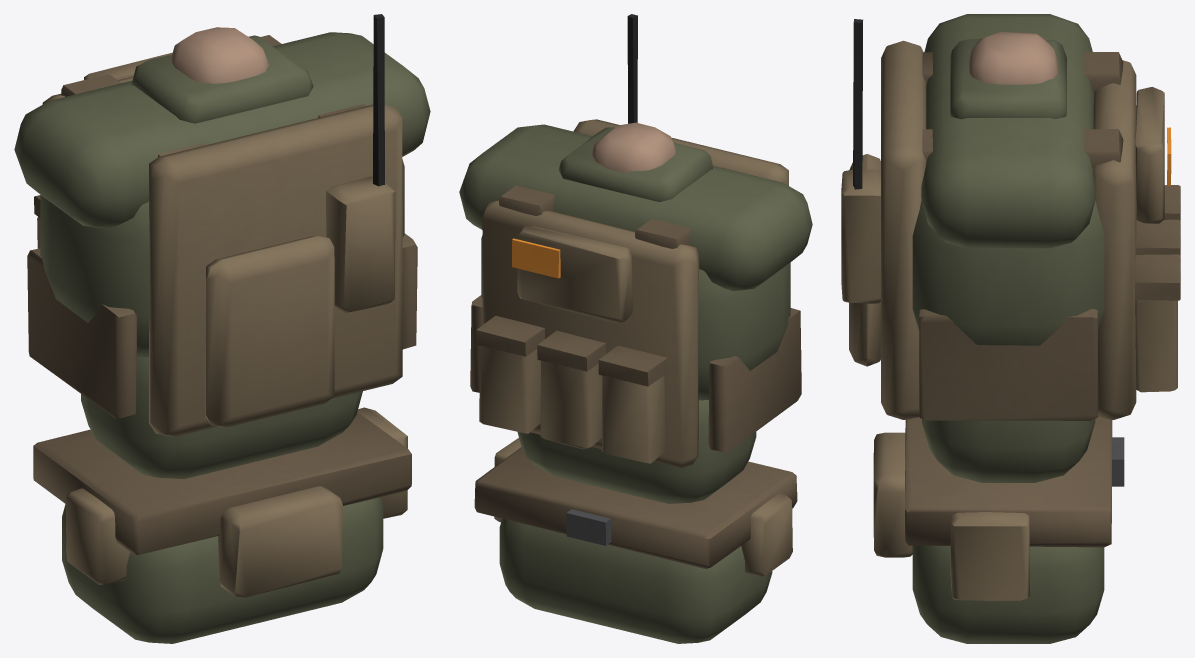
File: SM_OperatorATorso_LOD1.fbx
3 views of the same model, side by side, from view 1: azimuth 30°, elevation 25°; view 2: azimuth 150°, elevation 25°; view 3: azimuth 270°, elevation 25° (orthographic). The views are drawn at different scales.
Visible parts, largest first — view 1: SM_OperatorATorso_LOD1; view 2: SM_OperatorATorso_LOD1; view 3: SM_OperatorATorso_LOD1.
Part boxes in pixels (x1,y1,x2,y2): SM_OperatorATorso_LOD1: (14,14,430,643); SM_OperatorATorso_LOD1: (459,14,812,643); SM_OperatorATorso_LOD1: (841,14,1180,643).
Size of the model in its own units: 0.4515 by 0.745 by 0.3722.
Materials: 1 (1 with a texture image).
